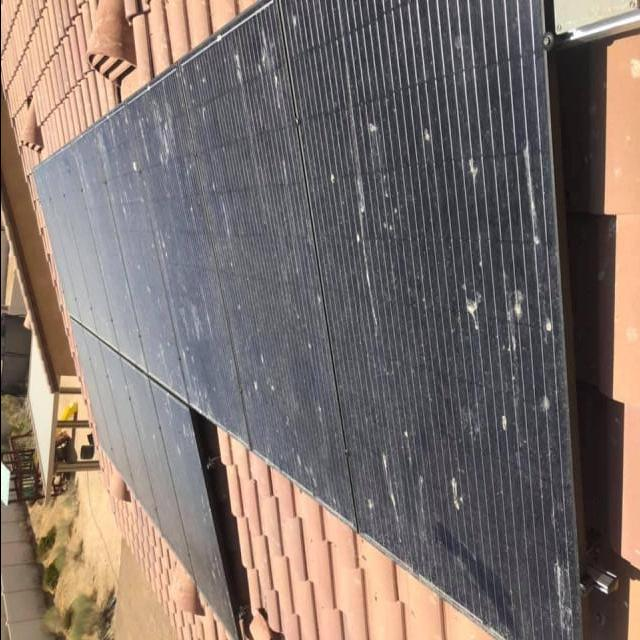soiled: (53, 0, 579, 616)
